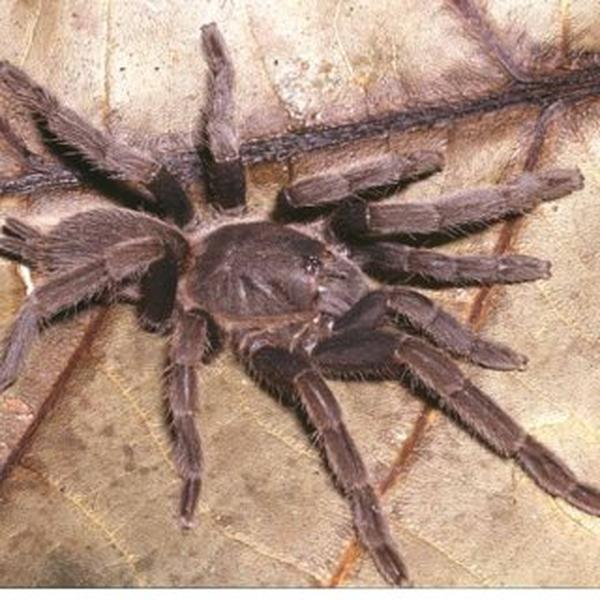Tarantula Spider: (25, 36, 598, 557)
